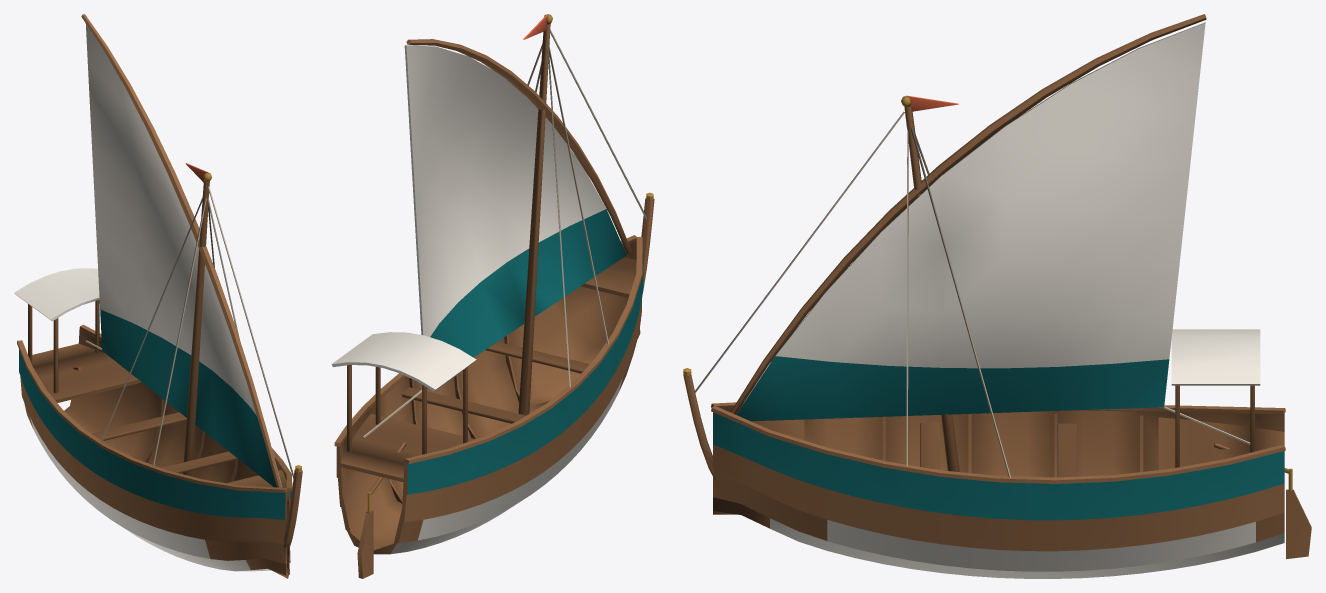
File: dhow_small.fbx
The picture shows the model from 3 angles, left to right: view 1: azimuth 30°, elevation 25°; view 2: azimuth 150°, elevation 25°; view 3: azimuth 270°, elevation 25°; orthographic projection. The views are drawn at different scales.
Parts seen in each view (by area): view 1: dhow_small; view 2: dhow_small; view 3: dhow_small.
Part boxes in pixels (x1,y1,x2,y2): dhow_small: (14,14,302,578); dhow_small: (331,14,654,578); dhow_small: (683,14,1311,578).
Size of the model in its own units: 2.44 by 8.08 by 8.35.
